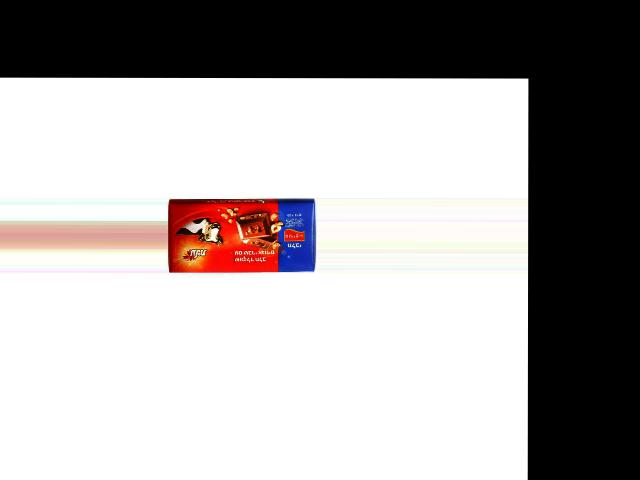chocolate: (168, 192, 313, 271)
